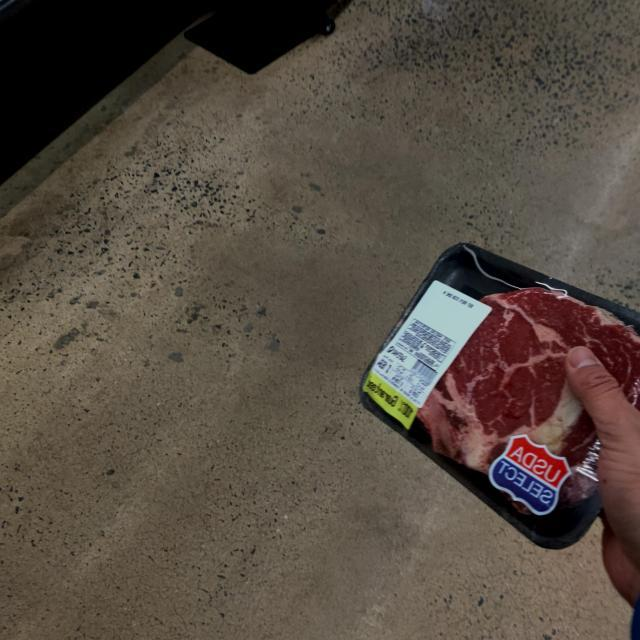Meat: (357, 245, 640, 539)
